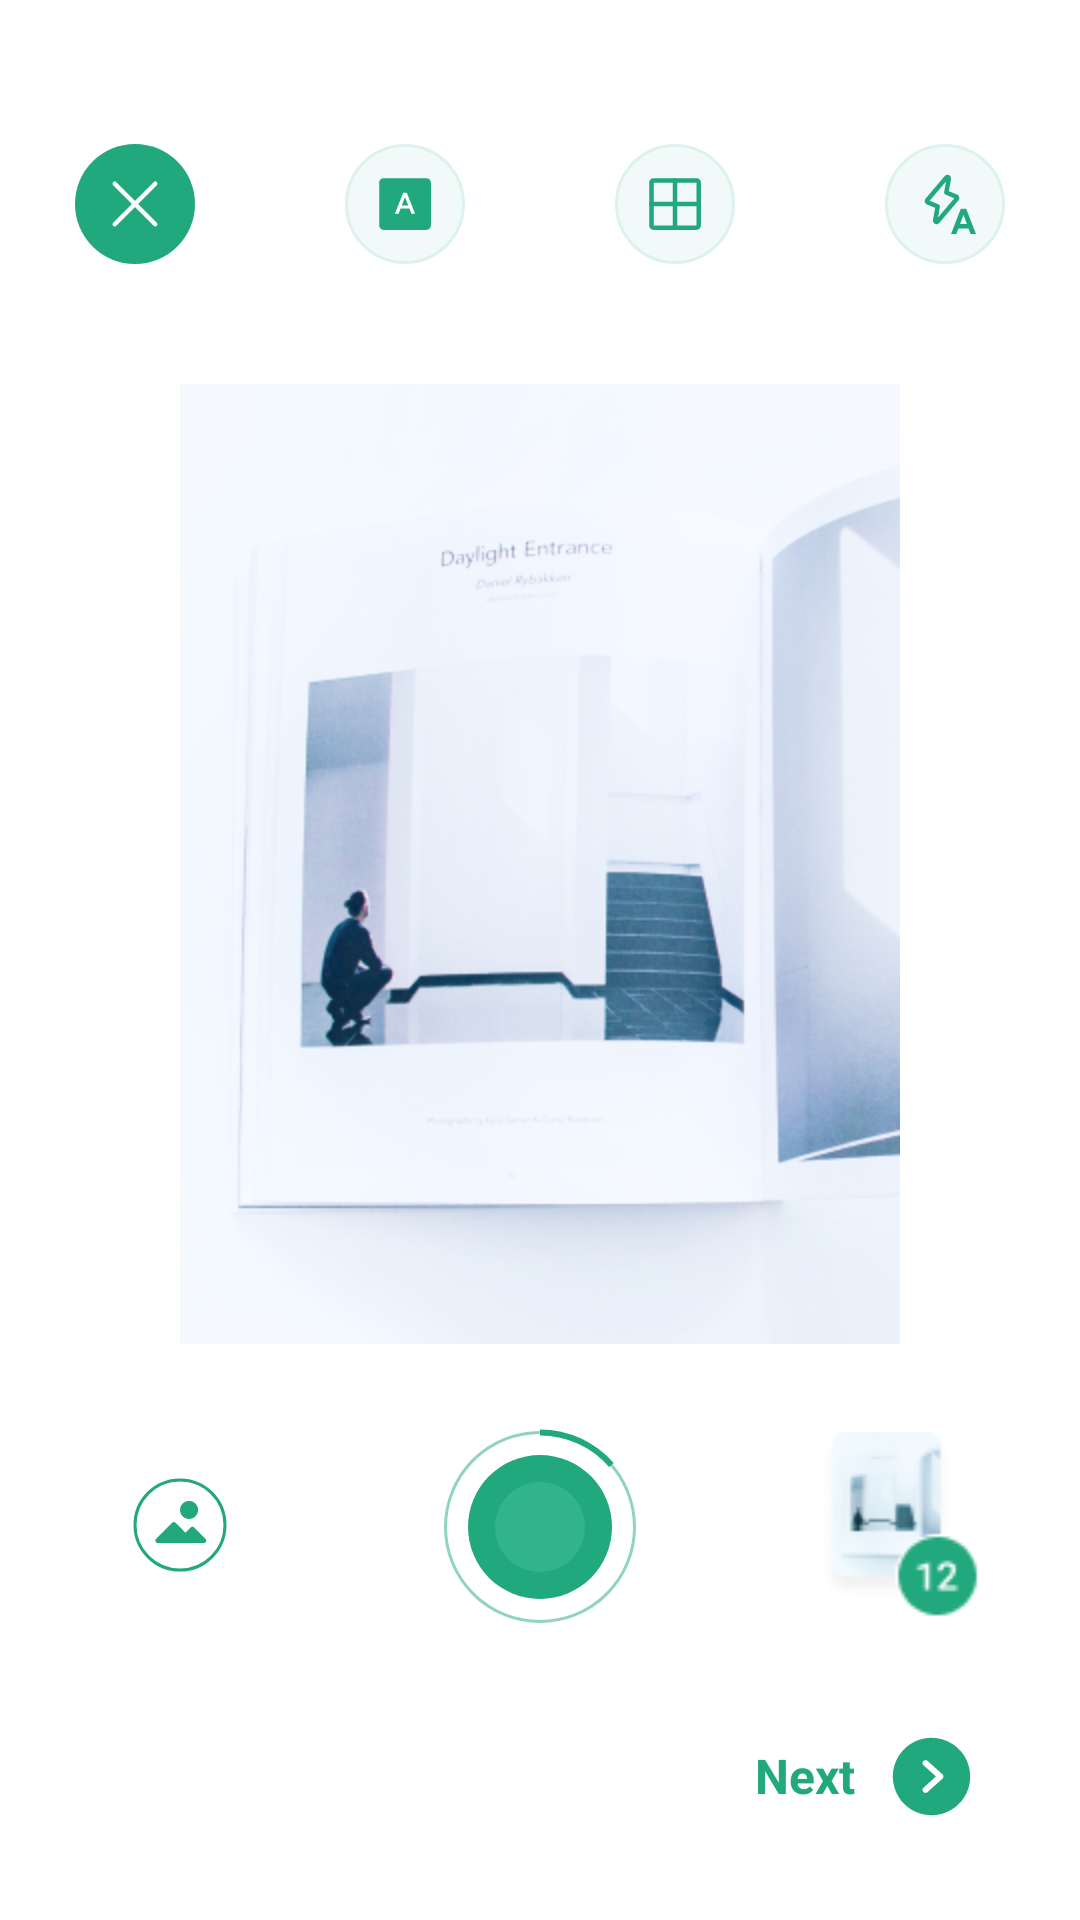

Named icons in this screenshot (1080px×1920px) and their centers, point (x, y):
cancel: point (135, 204)
capture picture: point (540, 1526)
flash: point (945, 204)
gallery: point (180, 1525)
grid: point (675, 204)
right arrow: point (931, 1776)
text: point (405, 204)
